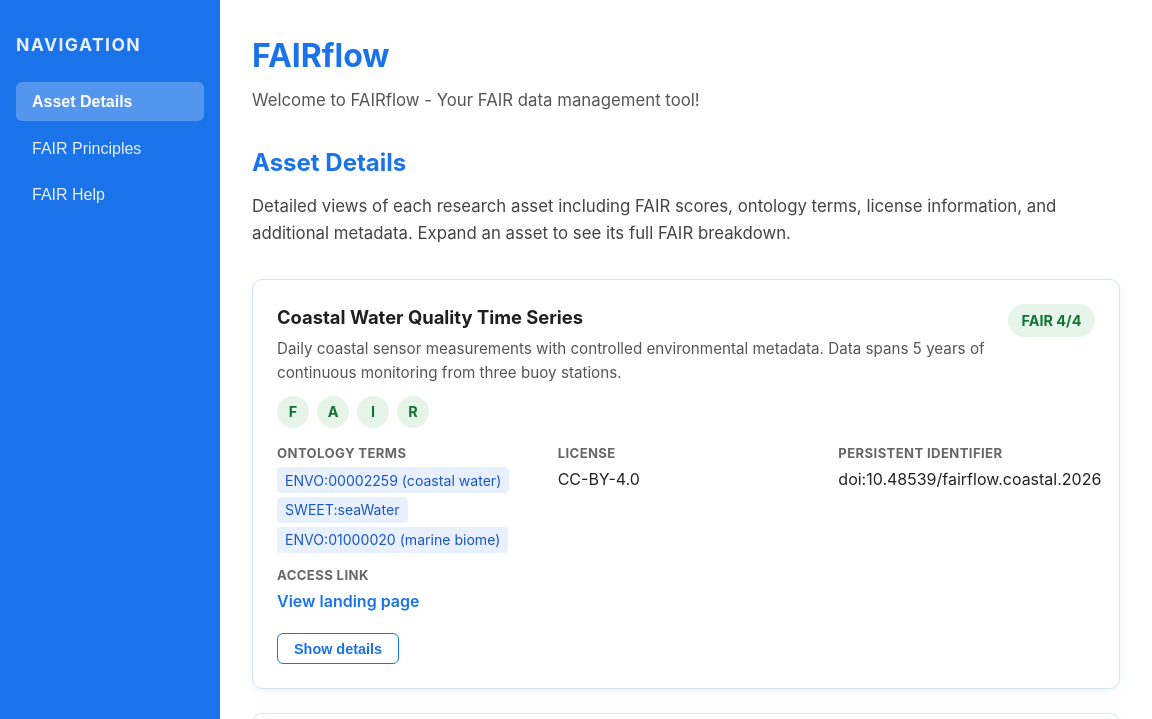
Test: App › navigates to FAIR Principles page
The width and height of the screenshot is (1152, 719).
Click the button "FAIR Principles": [110, 149] box x1=16 y1=129 x2=204 y2=168
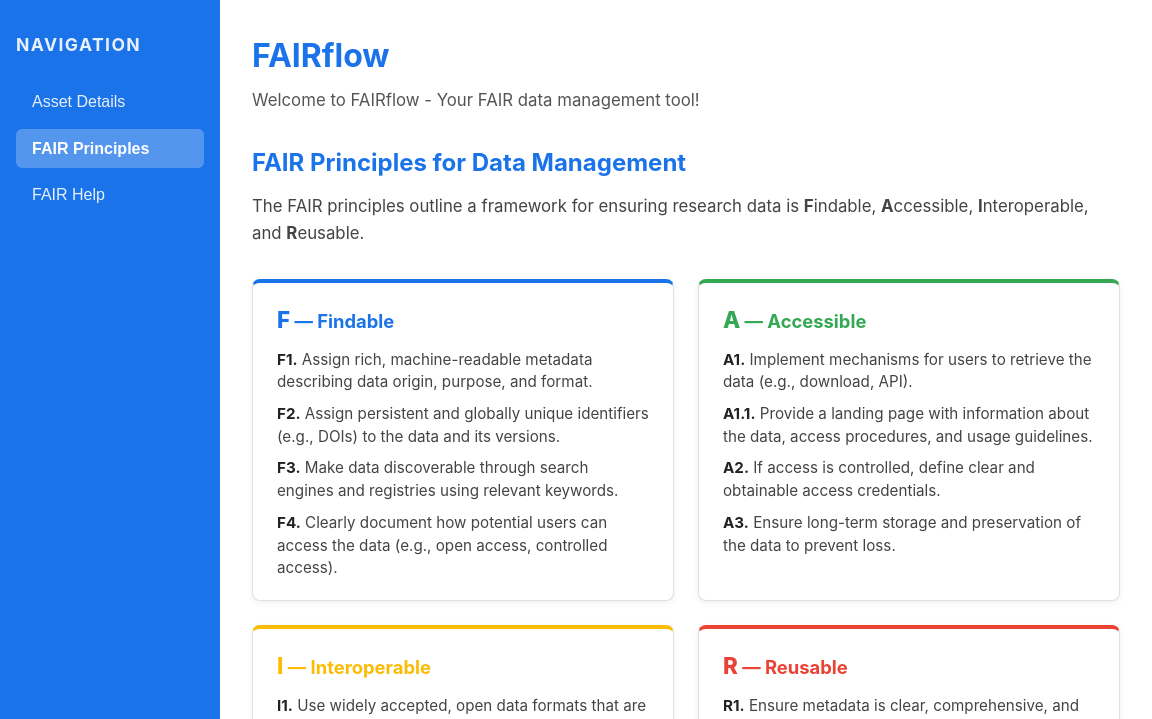
expect the heading "FAIR Principles for Data Management" is shown: met, box x1=252 y1=148 x2=686 y2=177
